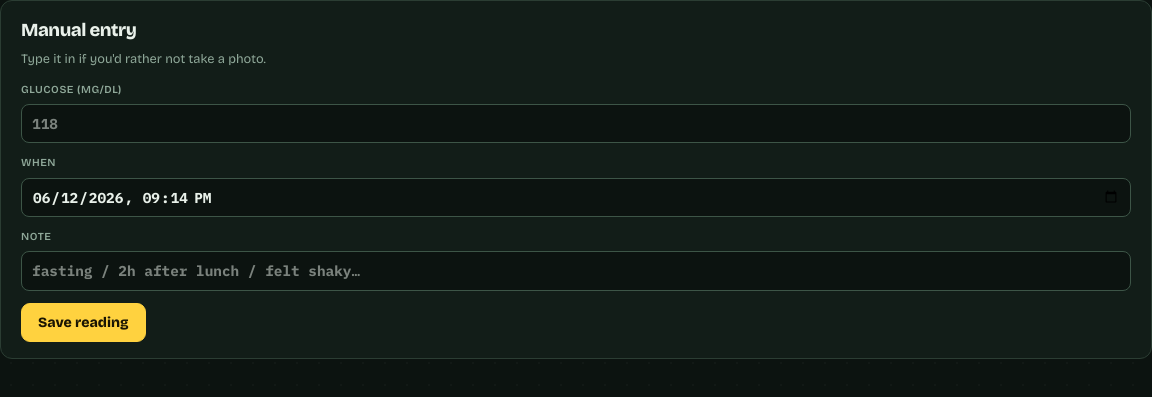
ManualEntryForm › requires a glucose value
Click the button "Save reading": click(83, 322) 21,303 -> 146,342
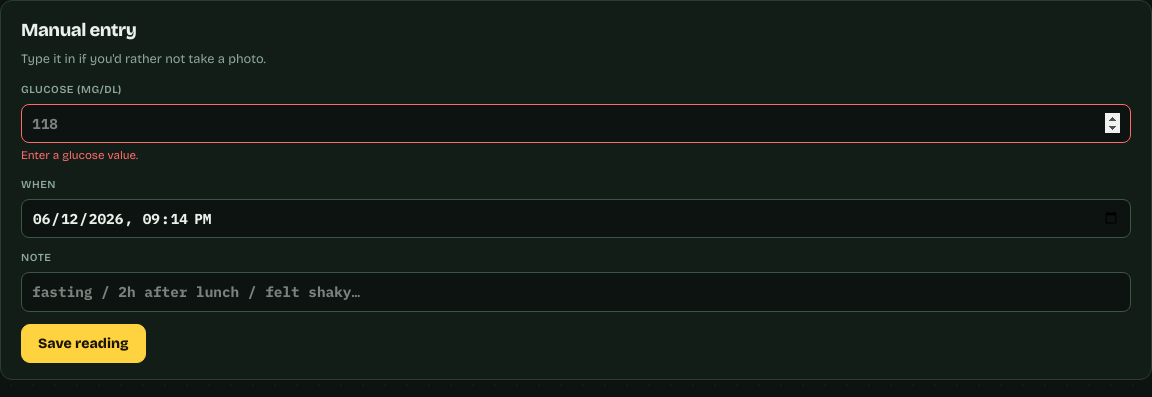
Result: the text "Enter a glucose value." is shown at 21,148 -> 138,162
